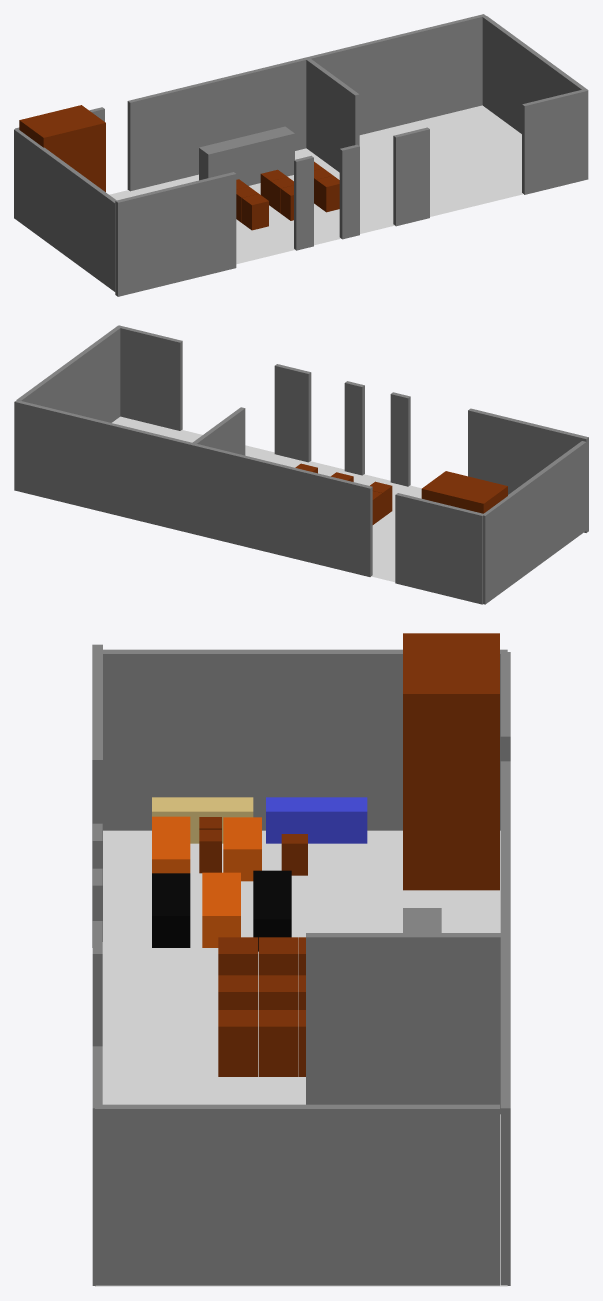
The model's file is original_layout_clean.glb.
3 views of the same model, one above another, from view 1: azimuth 30°, elevation 25°; view 2: azimuth 150°, elevation 25°; view 3: azimuth 270°, elevation 25° (orthographic). The views are drawn at different scales.
Visible parts, largest first — view 1: Plane.007, Wall, Wall.002, Wall.006, Wall.009, Wall.008, Wall.003, Wall.001, SmallTable.019, AperolSpritzTable.010, Wall.007, Wall.004 (+6 smaller); view 2: Wall, Wall.002, Wall.009, Wall.006, Wall.008, Wall.003, Plane.007, Wall.007, SmallTable.019, Wall.005, Wall.004, Wall.001 (+1 smaller); view 3: Wall.003, Wall.009, Plane.007, Wall.001, SmallTable.019, AperolSpritzTable.006, Wall.002, Wall, AperolSpritzTable.007, SmallTable.007, AperolSpritzTable.009, SmallTable.008 (+14 smaller).
Part boxes in pixels (x1,y1,x2,y2): Plane.007: (109, 105, 523, 264); Wall: (15, 57, 307, 191); Wall.002: (309, 14, 485, 134); Wall.006: (115, 172, 236, 296); Wall.009: (14, 128, 116, 292); Wall.008: (522, 89, 588, 194); Wall.003: (482, 16, 587, 133); Wall.001: (305, 57, 359, 172); SmallTable.019: (19, 105, 105, 191); AperolSpritzTable.010: (199, 126, 294, 185); Wall.007: (393, 127, 429, 226); Wall.004: (339, 144, 359, 239); Wall: (192, 443, 484, 604); Wall.002: (14, 400, 191, 533); Wall.009: (483, 441, 586, 604); Wall.006: (468, 408, 588, 532); Wall.008: (118, 325, 182, 430); Wall.003: (17, 325, 121, 422); Plane.007: (112, 416, 421, 582); Wall.007: (274, 364, 311, 462); SmallTable.019: (421, 471, 507, 513); Wall.005: (390, 392, 410, 486); Wall.004: (344, 381, 364, 475); Wall.001: (190, 407, 245, 533); Wall.003: (95, 1104, 499, 1286); Wall.009: (103, 649, 507, 830); Plane.007: (95, 830, 507, 1286); Wall.001: (306, 933, 510, 1114); SmallTable.019: (403, 633, 499, 890); AperolSpritzTable.006: (266, 797, 367, 843); Wall.002: (500, 937, 510, 1285); Wall: (500, 652, 510, 934); AperolSpritzTable.007: (152, 873, 190, 947); SmallTable.007: (258, 1010, 298, 1076); AperolSpritzTable.009: (202, 872, 240, 947); SmallTable.008: (218, 1010, 257, 1076).
Size of the model in its own units: 21.5 by 4.41 by 8.26.
